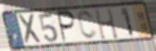1: (121, 6, 135, 39)
5: (37, 12, 60, 44)
C: (77, 10, 99, 41)
H: (93, 7, 120, 41)
P: (57, 10, 78, 44)
X: (17, 13, 43, 46)
